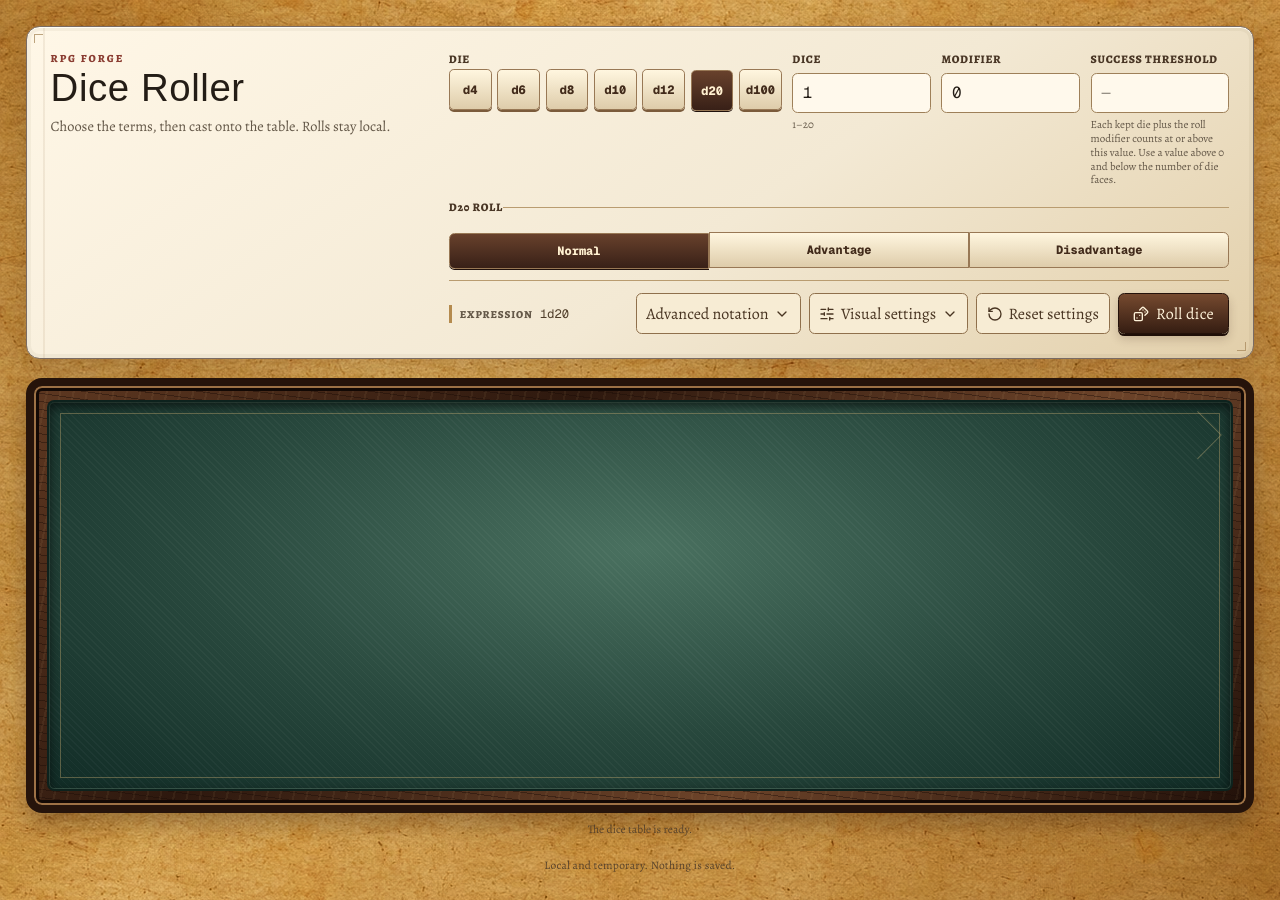
Test: DiceRoller › uses DiceBox's direct roll response for verification
Click the button "Roll dice" at x=1173, y=314, box [1118,294,1229,334]
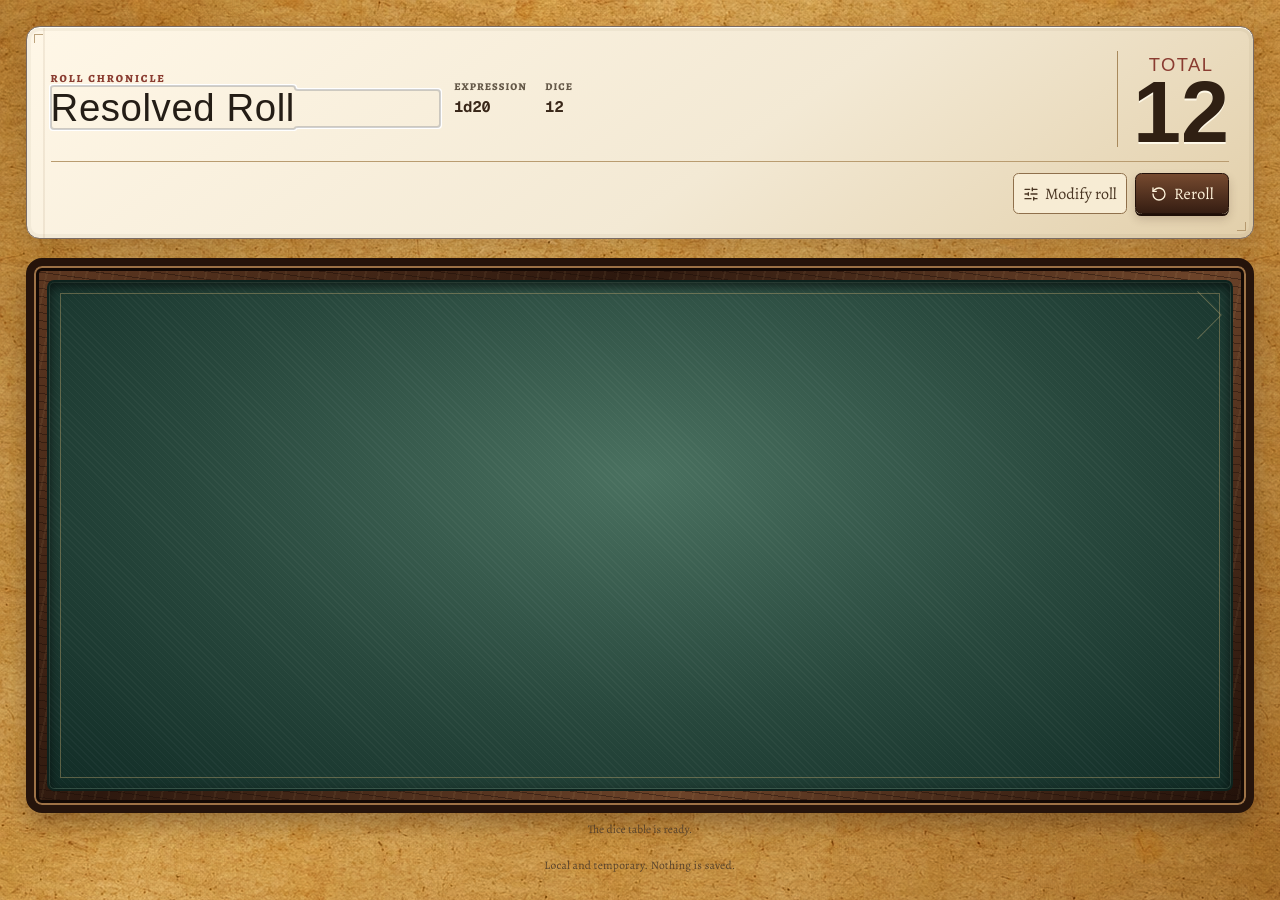
Result: the heading "Resolved Roll" is shown at [51,86,295,129]
